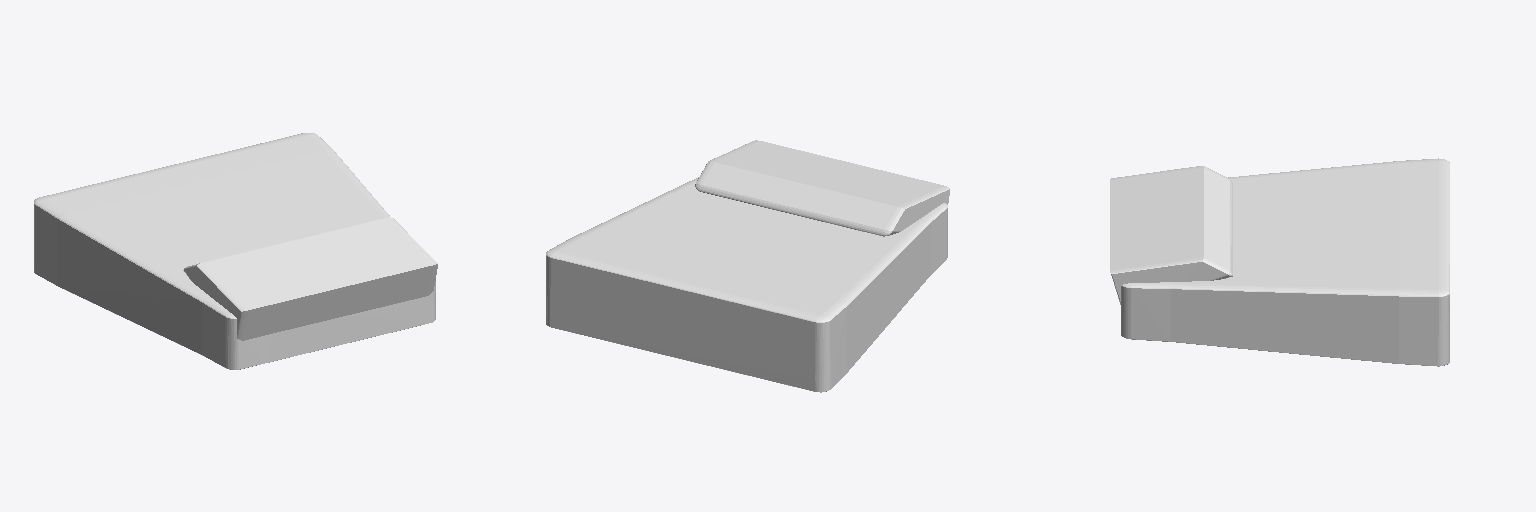
The model's file is empty_bag.obj.
3 renders of one model, left to right at view 1: azimuth 30°, elevation 25°; view 2: azimuth 150°, elevation 25°; view 3: azimuth 270°, elevation 25°, orthographic.
Visible parts, largest first — view 1: 000_Merged_Objects; view 2: 000_Merged_Objects; view 3: 000_Merged_Objects.
Part boxes in pixels (left/top/right/bottom): 000_Merged_Objects: left=34, top=133, right=437, bottom=369; 000_Merged_Objects: left=546, top=140, right=949, bottom=392; 000_Merged_Objects: left=1110, top=158, right=1449, bottom=366.
Size of the model in its own units: 2.48 by 0.7299 by 2.58.